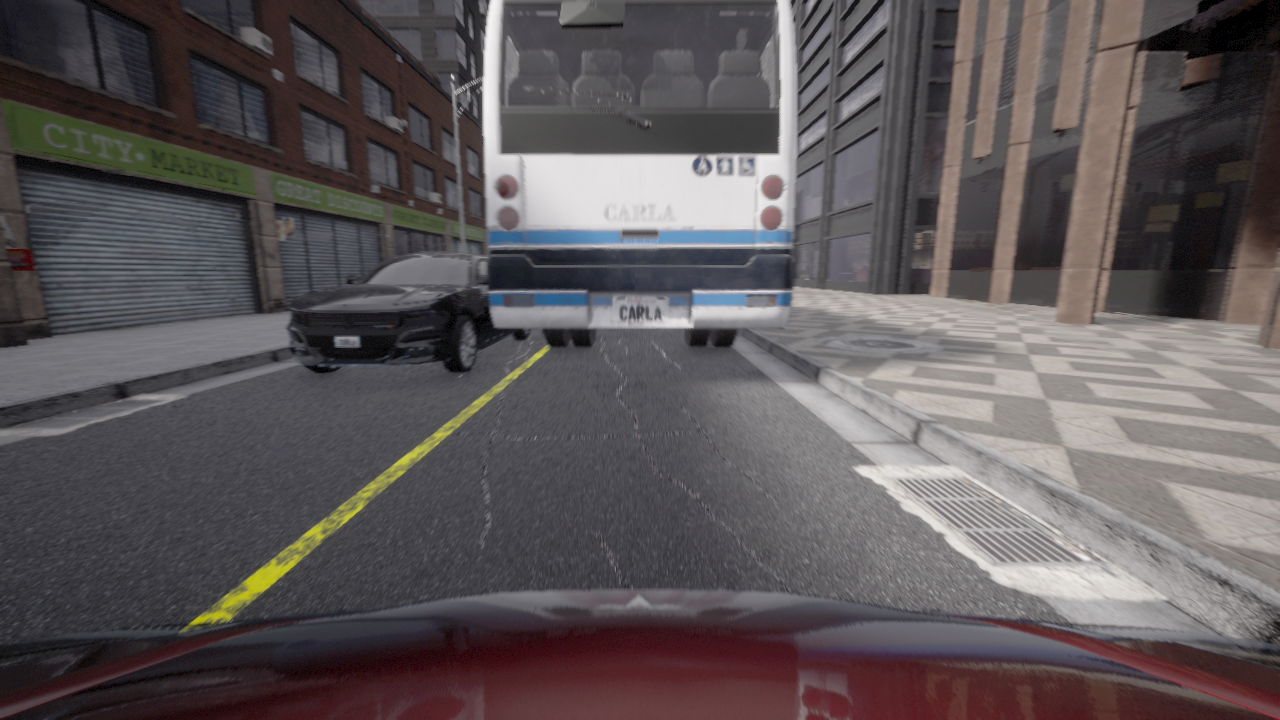cyclist: (0, 588, 1279, 719), (484, 0, 795, 347), (287, 252, 529, 372)
